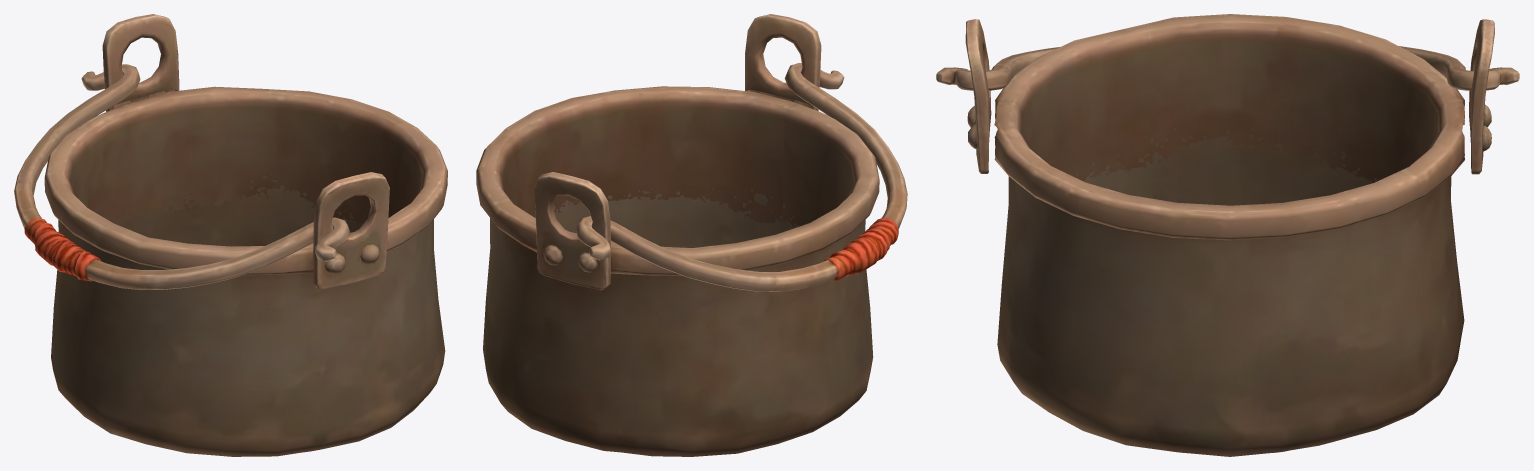
3 renders of one model, left to right at view 1: azimuth 30°, elevation 25°; view 2: azimuth 150°, elevation 25°; view 3: azimuth 270°, elevation 25°, orthographic. The views are drawn at different scales.
Parts seen in each view (by area): view 1: SM_Dec_Kitchen_Brass_Pot_Large_LOD0; view 2: SM_Dec_Kitchen_Brass_Pot_Large_LOD0; view 3: SM_Dec_Kitchen_Brass_Pot_Large_LOD0.
Part boxes in pixels (x1=…): SM_Dec_Kitchen_Brass_Pot_Large_LOD0: x1=14, y1=14, x2=447, y2=456; SM_Dec_Kitchen_Brass_Pot_Large_LOD0: x1=476, y1=14, x2=907, y2=456; SM_Dec_Kitchen_Brass_Pot_Large_LOD0: x1=936, y1=14, x2=1519, y2=456.
Size of the model in its own units: 0.6224 by 0.4647 by 0.7074.
Materials: 1 (1 with a texture image).
